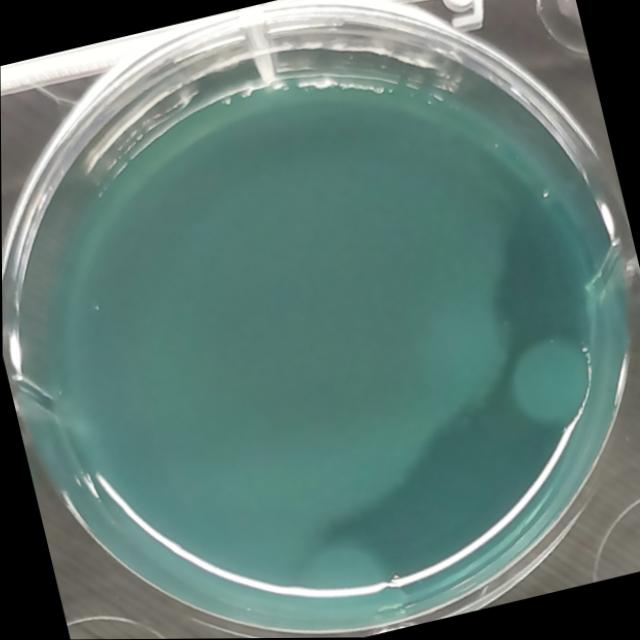vibrio: (491, 326, 610, 448), (280, 520, 410, 618)
